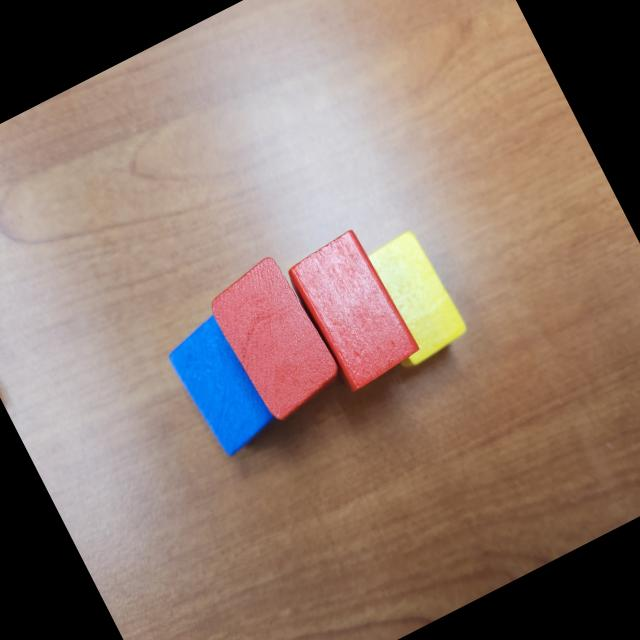blue: (160, 312, 282, 462)
red: (201, 250, 351, 428), (282, 226, 424, 396)
yellow: (347, 226, 473, 374)
